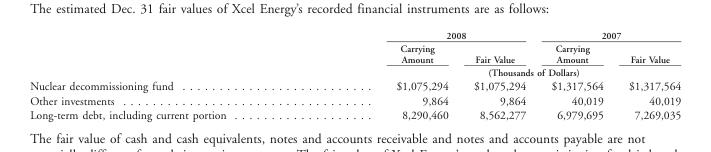table: (29, 29, 680, 121)
table column: (29, 29, 310, 121), (310, 29, 460, 121), (537, 29, 615, 121), (460, 29, 537, 121), (615, 29, 680, 121)
table column header: (29, 29, 680, 78)
table row: (29, 41, 680, 65), (29, 78, 680, 93), (29, 93, 680, 107), (29, 107, 680, 121), (29, 65, 680, 78), (29, 29, 680, 41)
table spanning cell: (310, 65, 680, 78), (310, 29, 537, 41), (537, 29, 680, 41)
